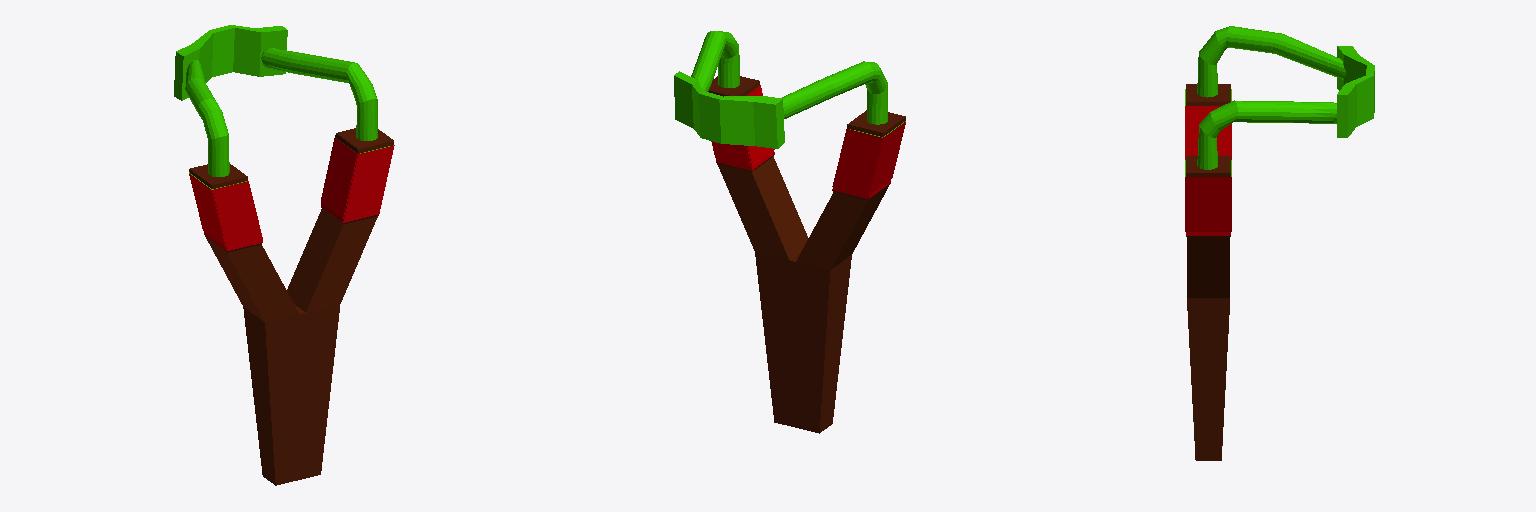
File: estilingue.obj
The picture shows the model from 3 angles: view 1: azimuth 30°, elevation 25°; view 2: azimuth 150°, elevation 25°; view 3: azimuth 270°, elevation 25°; orthographic projection.
Visible parts, largest first — view 1: Estilingue_Material.004_0, Estilingue_Material_0, Estilingue_Material.003_0; view 2: Estilingue_Material.004_0, Estilingue_Material_0, Estilingue_Material.003_0; view 3: Estilingue_Material_0, Estilingue_Material.004_0, Estilingue_Material.003_0.
Boxes of the visible parts, <box> form: Estilingue_Material.004_0: <box>189,128,393,485</box>; Estilingue_Material_0: <box>174,25,393,189</box>; Estilingue_Material.003_0: <box>189,138,394,250</box>; Estilingue_Material.004_0: <box>708,76,905,433</box>; Estilingue_Material_0: <box>674,31,905,148</box>; Estilingue_Material.003_0: <box>711,86,905,198</box>; Estilingue_Material_0: <box>1185,26,1374,176</box>; Estilingue_Material.004_0: <box>1186,84,1230,460</box>; Estilingue_Material.003_0: <box>1185,106,1231,235</box>.
Bounding box in the file's own units: 0.1996 × 0.4032 × 0.1793.